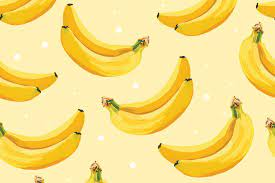banana: (159, 96, 256, 182), (103, 54, 200, 137), (58, 1, 151, 83), (1, 106, 85, 173), (143, 1, 242, 38), (232, 19, 275, 100), (1, 1, 57, 27)
